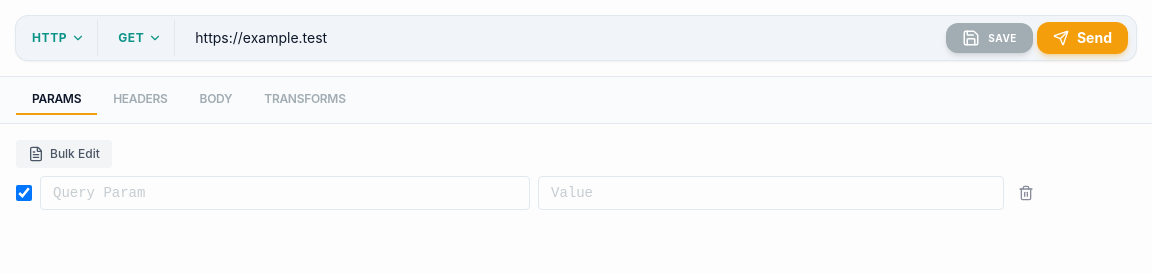
RequestEditor command bar › shows validation banner when run fails validation
Expected: the button "GET" is shown, [106,30,174,46]
Click the button "Send". click: click(1082, 38)
box: [1037,22,1128,54]
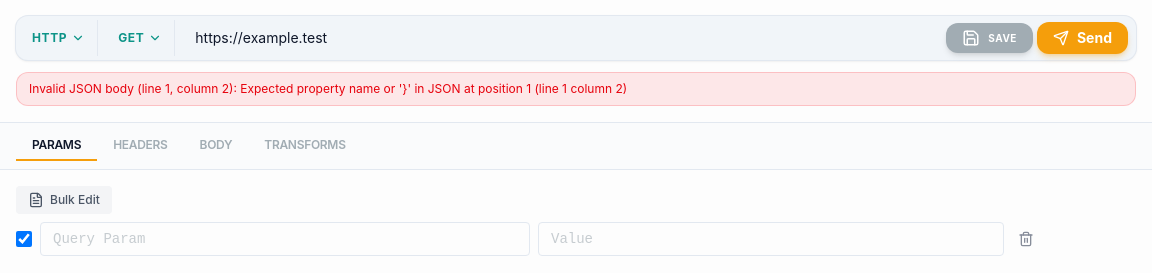
Expected: the text "Invalid JSON body" is shown, [29,81,627,96]
